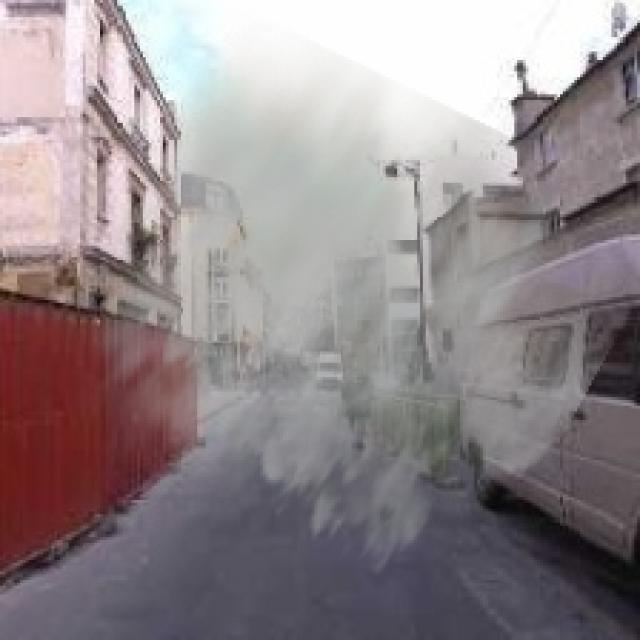smoke: (69, 12, 634, 577)
